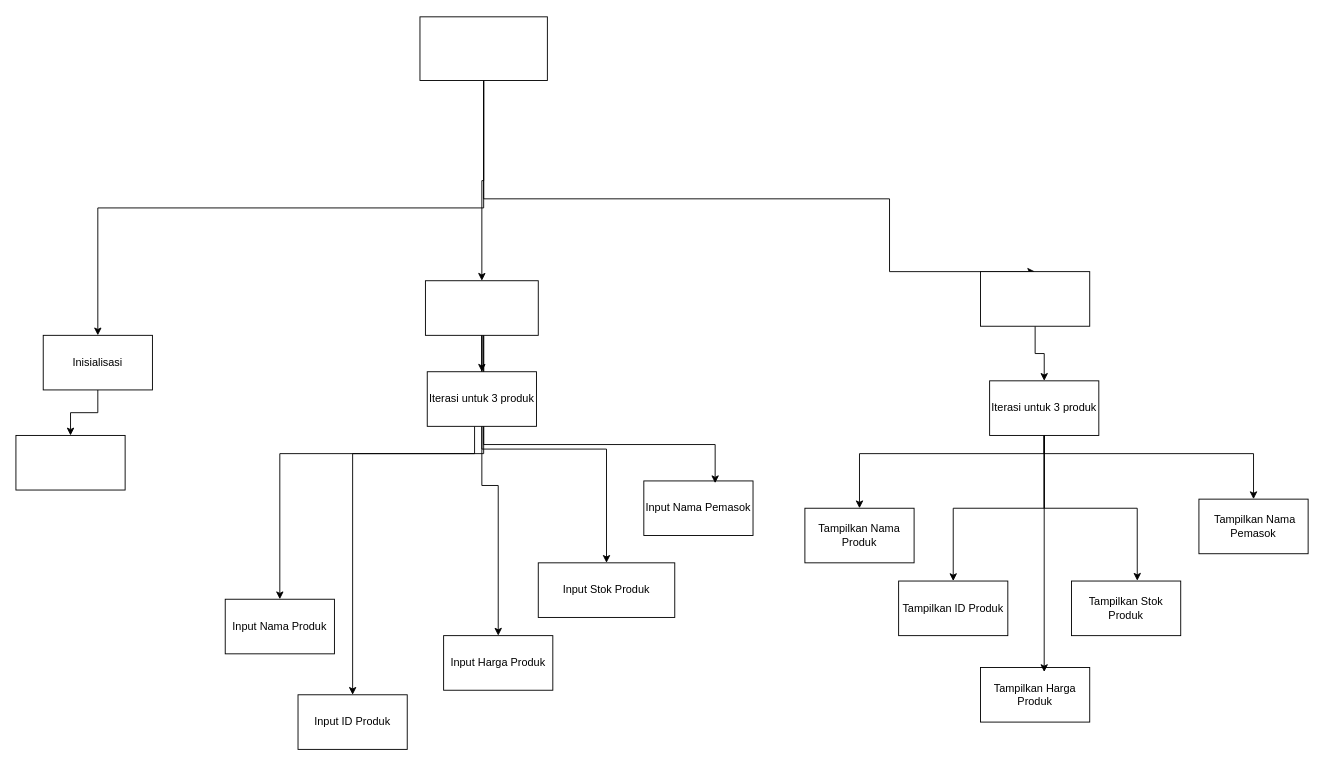
The diagram is 1324 pixels wide and 765 high, and some of its shapes have lost their labels. The shapes that lost their labels are listed below. From the top down, each one's centre as x and y in pixels, then its label:
At point (483, 48): "Program Manajemen Produk".
At point (481, 307): "Input Data Produk".
At point (1035, 298): "Tampilkan Data Produk".
At point (70, 462): "Deklarasi array sProds[3] bertipe Prod".
